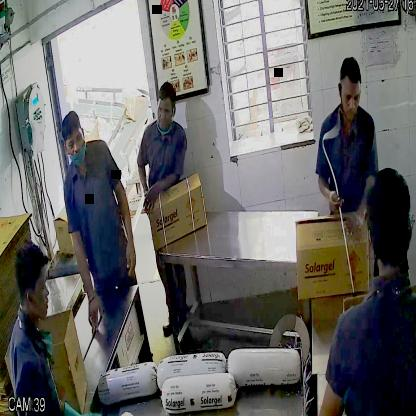no_goggles: (334, 82, 365, 109), (61, 128, 87, 154), (152, 98, 178, 123)
